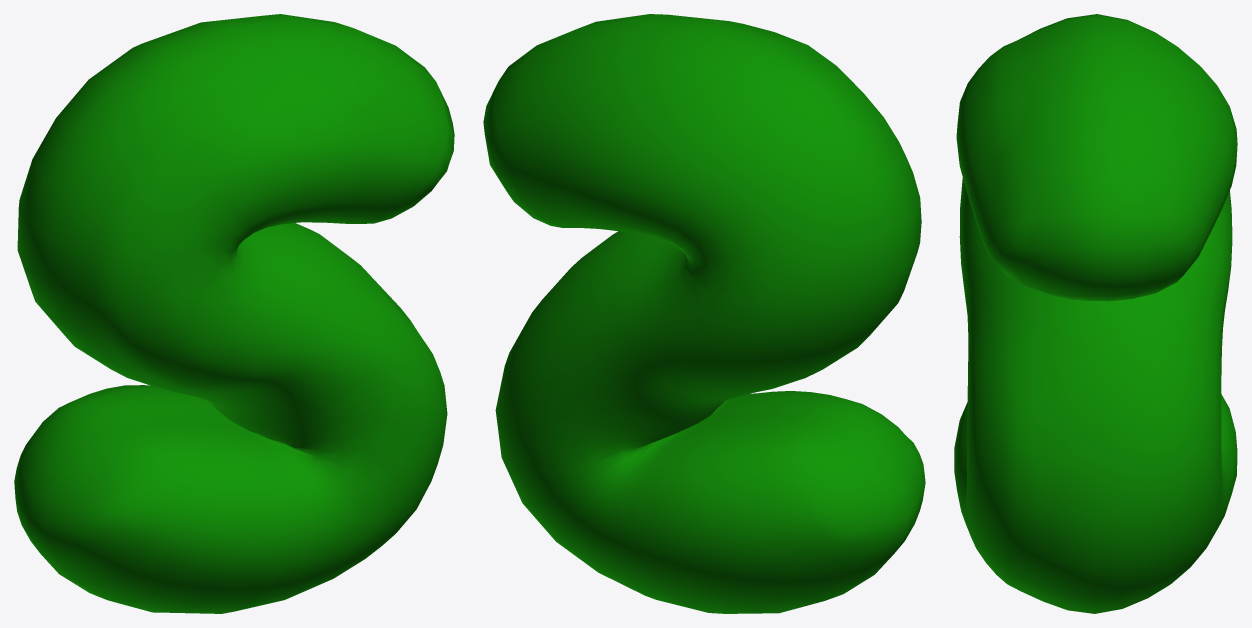
The picture shows the model from 3 angles, left to right: view 1: azimuth 30°, elevation 25°; view 2: azimuth 150°, elevation 25°; view 3: azimuth 270°, elevation 25°; orthographic projection. The views are drawn at different scales.
Parts seen in each view (by area): view 1: Object_40; view 2: Object_40; view 3: Object_40.
Part boxes in pixels (<box>): Object_40: <box>14,14,454,613</box>; Object_40: <box>483,14,925,613</box>; Object_40: <box>954,14,1237,613</box>.
Size of the model in its own units: 0.7247 by 0.9587 by 0.4459.
